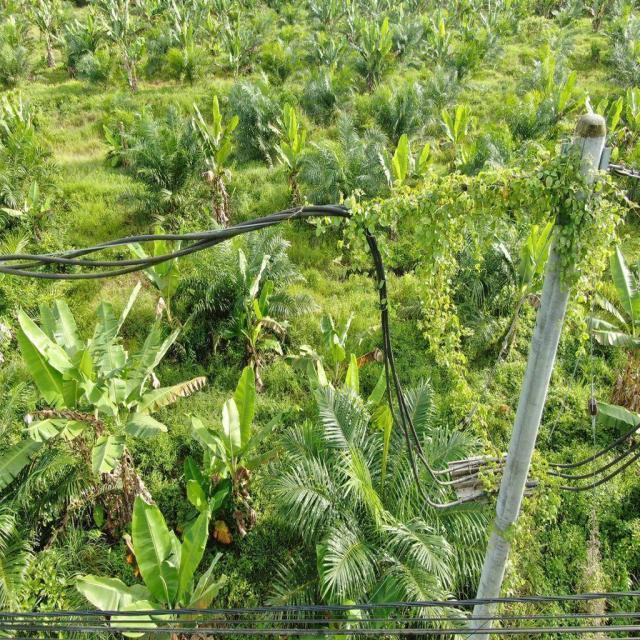critical vegetation: (328, 141, 630, 515)
